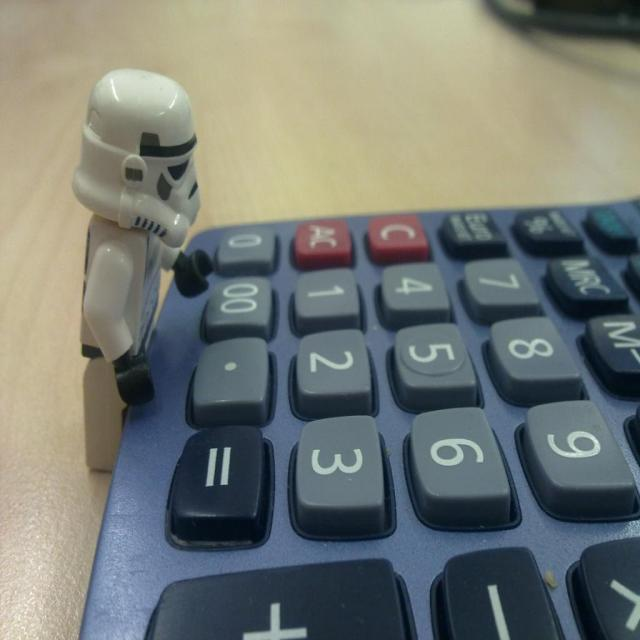Calculator: (81, 196, 640, 640)
